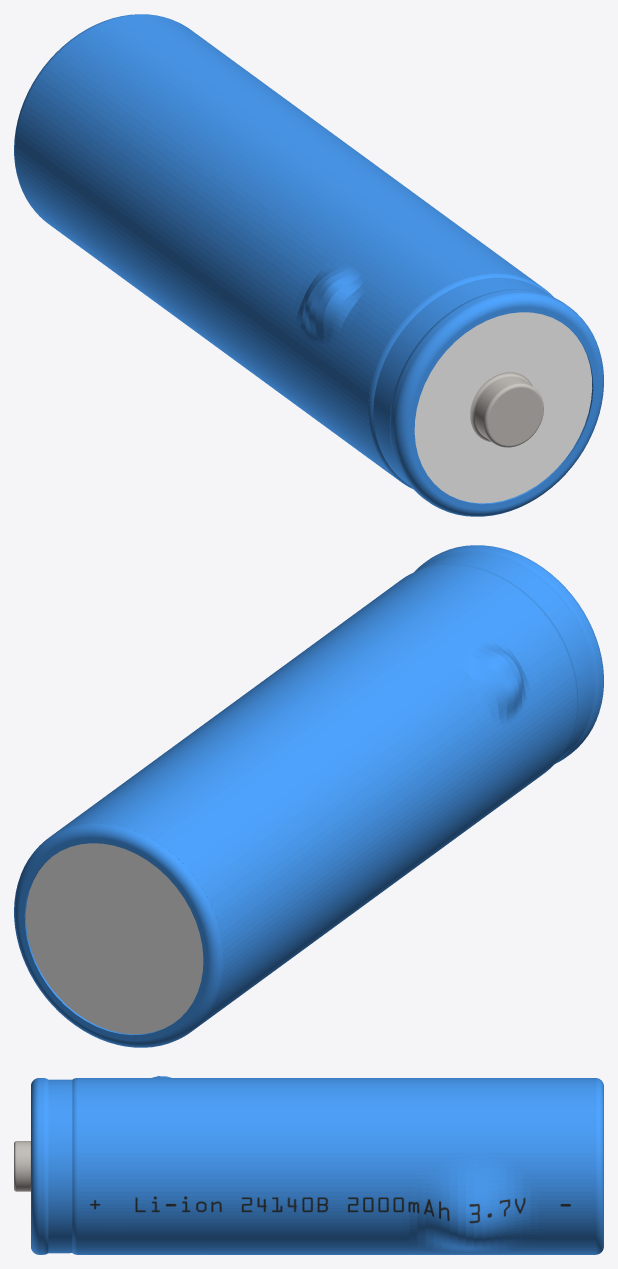
The model's file is defect_10.glb.
The picture shows the model from 3 angles, top to bottom: view 1: azimuth 30°, elevation 25°; view 2: azimuth 150°, elevation 25°; view 3: azimuth 270°, elevation 25°; orthographic projection. The views are drawn at different scales.
Visible parts, largest first — view 1: Cylinder, Cell_Top; view 2: Cylinder, Cell_bottom, Cell_Top; view 3: Cylinder, Cell_Top, Cell_bottom.
Part boxes in pixels (left/top/right/bottom): Cylinder: left=15, top=15, right=553, bottom=479; Cell_Top: left=368, top=273, right=603, bottom=516; Cylinder: left=36, top=565, right=576, bottom=1030; Cell_bottom: left=14, top=823, right=223, bottom=1047; Cell_Top: left=414, top=545, right=603, bottom=764; Cylinder: left=77, top=1076, right=595, bottom=1254; Cell_Top: left=14, top=1078, right=77, bottom=1254; Cell_bottom: left=595, top=1078, right=603, bottom=1254.
Size of the model in its own units: 0.0233 by 0.021 by 0.07.
Materials: 10 (1 with a texture image).
